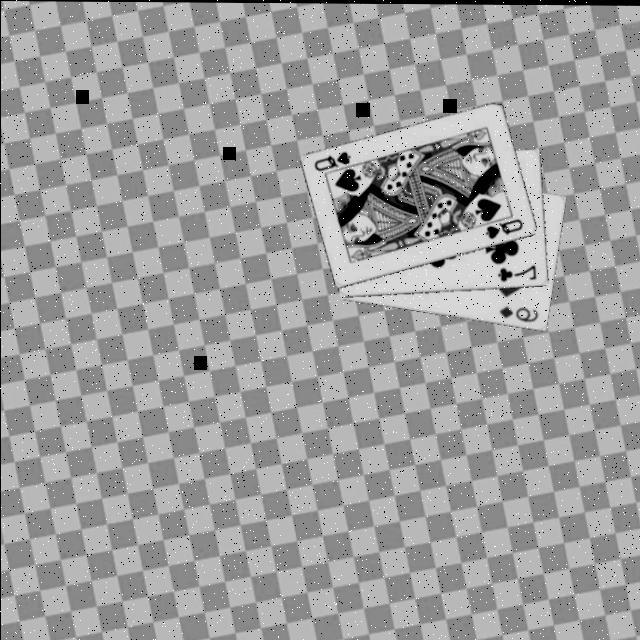6D: (494, 304, 538, 326)
7C: (493, 262, 538, 285)
QS: (480, 216, 524, 242), (309, 148, 352, 174)
